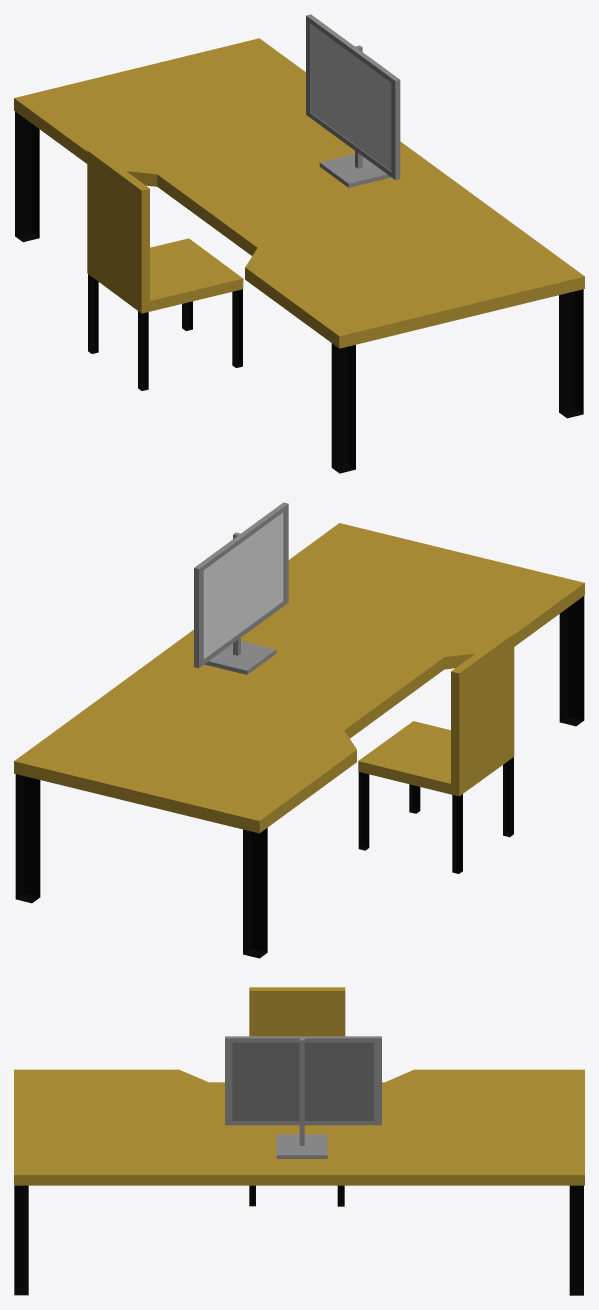
The model's file is DeskBrownSingleMonitor.fbx.
The picture shows the model from 3 angles, top to bottom: view 1: azimuth 30°, elevation 25°; view 2: azimuth 150°, elevation 25°; view 3: azimuth 270°, elevation 25°; orthographic projection. The views are drawn at different scales.
Visible parts, largest first — view 1: ComputerDesk, Chair, Monitor; view 2: ComputerDesk, Chair, Monitor; view 3: ComputerDesk, Monitor, Chair.
Part boxes in pixels (x1,y1,x2,y2): ComputerDesk: (14,38,584,473); Chair: (87,148,243,390); Monitor: (306,14,400,187); ComputerDesk: (14,523,584,958); Chair: (358,631,514,873); Monitor: (194,502,288,674); ComputerDesk: (14,1069,584,1295); Monitor: (225,1036,381,1158); Chair: (249,987,345,1206).
Size of the model in its own units: 981 by 796 by 1790.
